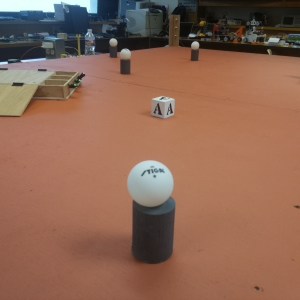obstacle: (119, 150, 188, 262), (118, 49, 133, 77), (106, 36, 117, 58), (189, 42, 201, 61)
side: (42, 70, 87, 104)
slope: (1, 82, 35, 116)
